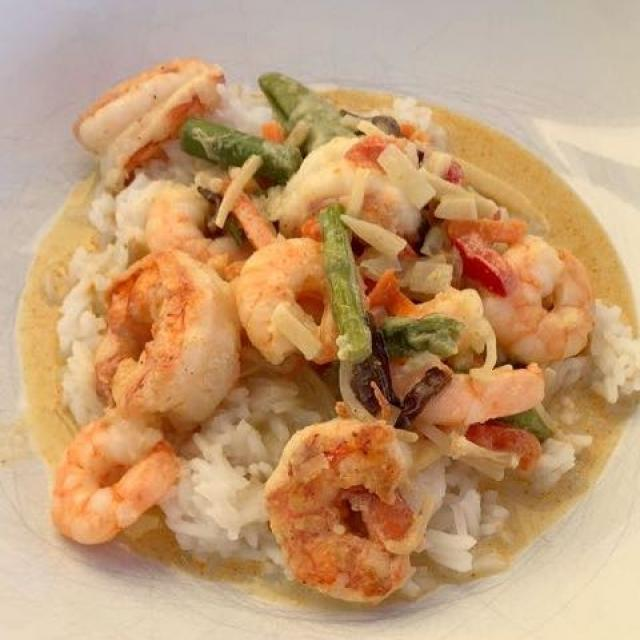rice: (57, 161, 626, 586)
shrimp: (58, 54, 586, 612)
